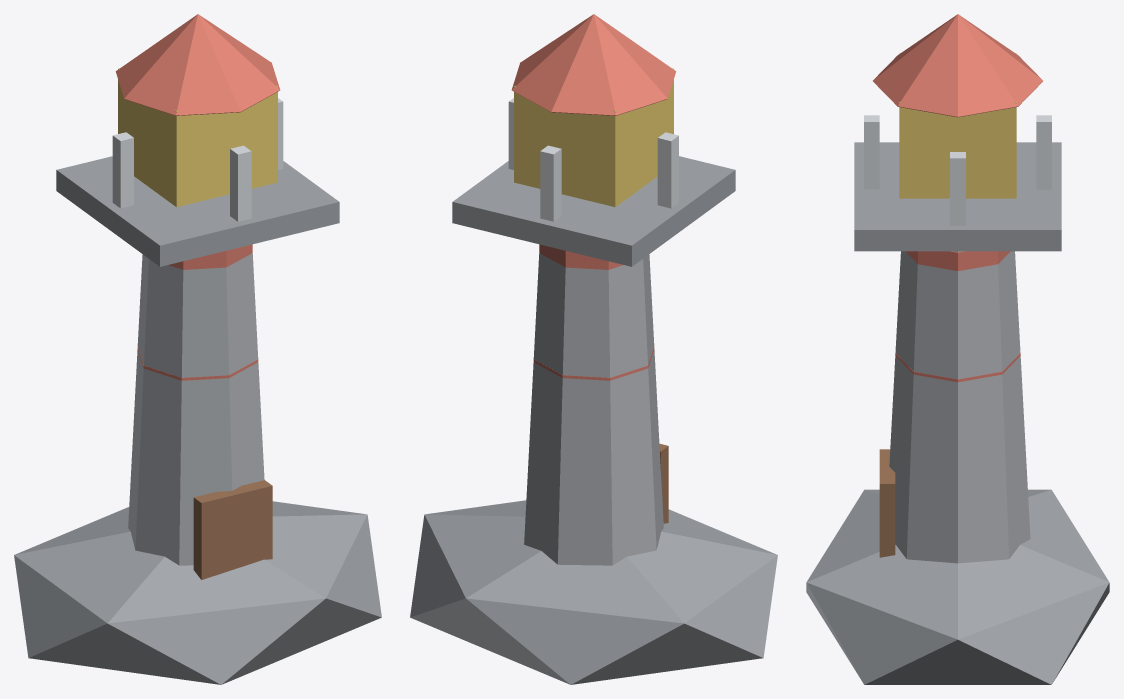
Rendered from ocean_lighthouse_landmark.glb.
3 renders of one model, left to right at view 1: azimuth 30°, elevation 25°; view 2: azimuth 150°, elevation 25°; view 3: azimuth 270°, elevation 25°, orthographic.
Visible parts, largest first — view 1: rock_base; view 2: rock_base; view 3: rock_base.
Boxes of the visible parts, x1,y1,x2,y2 form: rock_base: [14, 14, 381, 684]; rock_base: [410, 14, 777, 684]; rock_base: [806, 14, 1109, 684].
Size of the model in its own units: 2 by 3.62 by 1.55.
